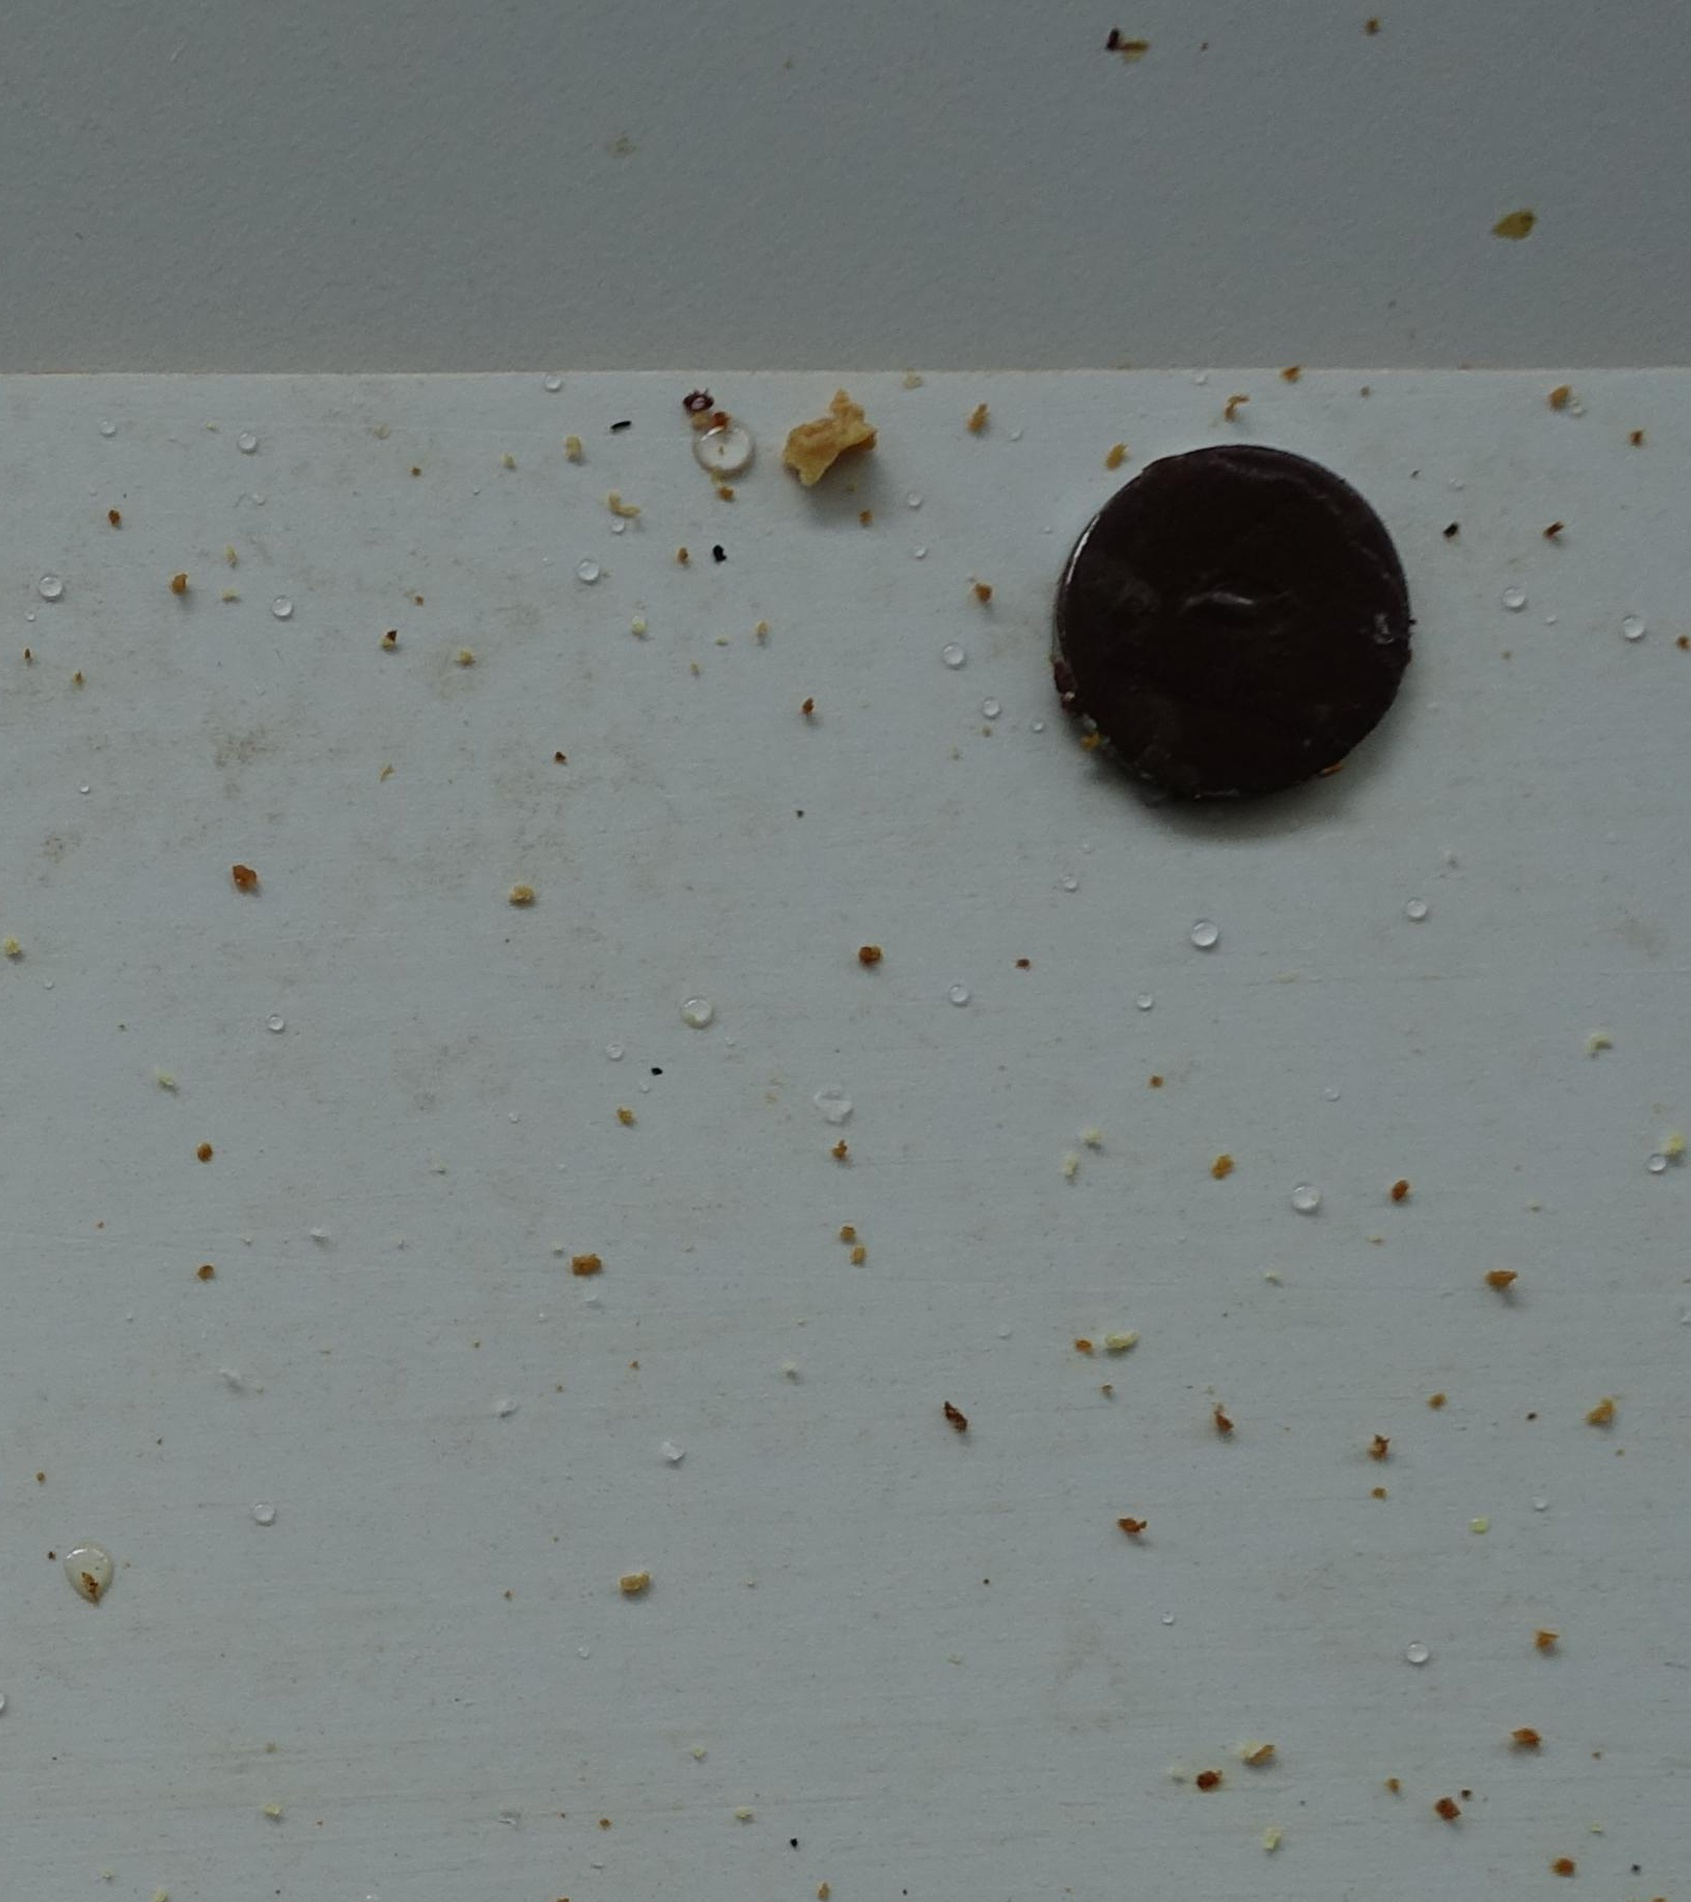Varroa: (684, 392, 708, 416)
